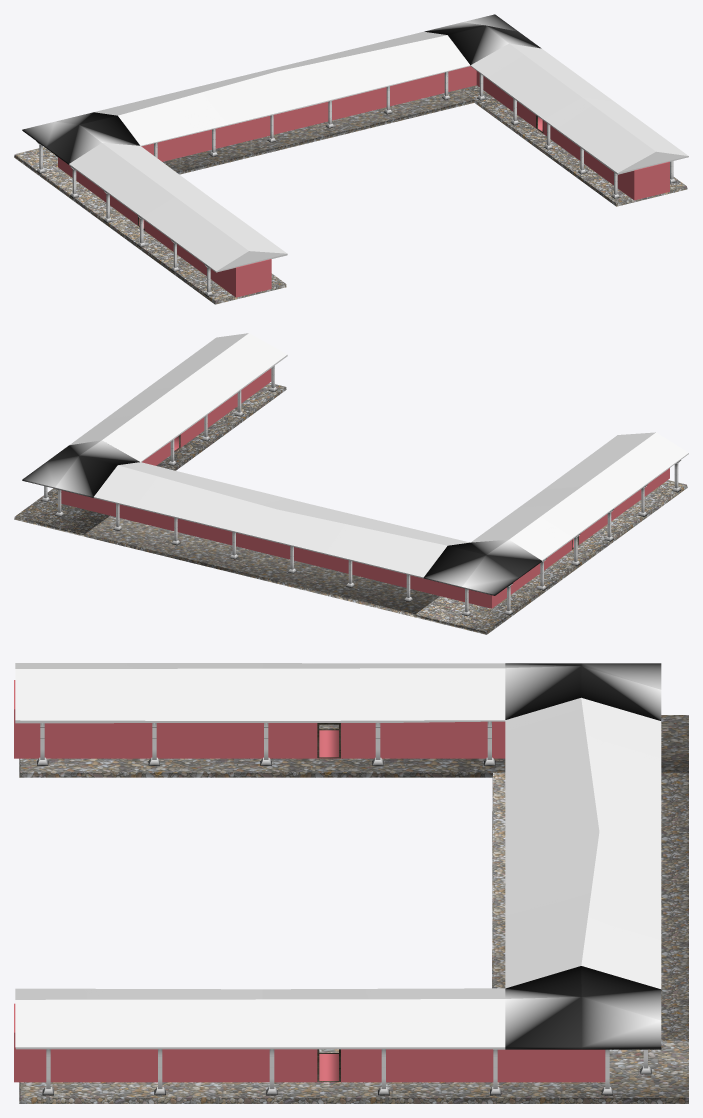
Rendered from Cemiterio.fbx.
The picture shows the model from 3 angles, top to bottom: view 1: azimuth 30°, elevation 25°; view 2: azimuth 150°, elevation 25°; view 3: azimuth 270°, elevation 25°; orthographic projection. The views are drawn at different scales.
Visible parts, largest first — view 1: Cube.029, Cube.040, Chao.002, Cube.019, Cube.030, Cube.038, Chao.005, Cube.027, Cube.028, Cube.031; view 2: Cube.029, Cube.040, Chao.002, Chao.005, Cube.038, Cube.019, Cube.030, Cube.026, Cube.027, Cube.031; view 3: Cube.029, Cube.040, Cube.030, Chao.002, Cube.038, Chao.005, Cube.019, Cube.027, Cube.031.
Boxes of the visible parts, left/top/right/bottom form: Cube.029: left=69, top=43, right=688, bottom=272; Cube.040: left=94, top=31, right=470, bottom=146; Chao.002: left=14, top=85, right=687, bottom=304; Cube.019: left=58, top=66, right=476, bottom=181; Cube.030: left=78, top=71, right=669, bottom=297; Cube.038: left=22, top=14, right=541, bottom=164; Chao.005: left=163, top=89, right=474, bottom=174; Cube.027: left=36, top=141, right=675, bottom=296; Cube.028: left=154, top=72, right=450, bottom=158; Cube.031: left=271, top=73, right=620, bottom=282; Cube.029: left=69, top=333, right=688, bottom=561; Cube.040: left=93, top=462, right=469, bottom=578; Chao.002: left=14, top=383, right=687, bottom=634; Chao.005: left=85, top=515, right=439, bottom=617; Cube.038: left=22, top=440, right=541, bottom=595; Cube.019: left=61, top=490, right=512, bottom=608; Cube.030: left=142, top=368, right=669, bottom=593; Cube.026: left=55, top=489, right=470, bottom=616; Cube.027: left=41, top=460, right=680, bottom=615; Cube.031: left=168, top=365, right=277, bottom=465; Cube.029: left=15, top=663, right=505, bottom=1049; Cube.040: left=505, top=697, right=661, bottom=988; Cube.030: left=14, top=680, right=538, bottom=1082; Chao.002: left=19, top=715, right=688, bottom=1103; Cube.038: left=505, top=663, right=661, bottom=1049; Chao.005: left=492, top=772, right=688, bottom=1040; Cube.019: left=538, top=1049, right=605, bottom=1082; Cube.027: left=42, top=1049, right=612, bottom=1095; Cube.031: left=37, top=721, right=495, bottom=765.
Size of the model in its own units: 5610 by 546 by 4161.
